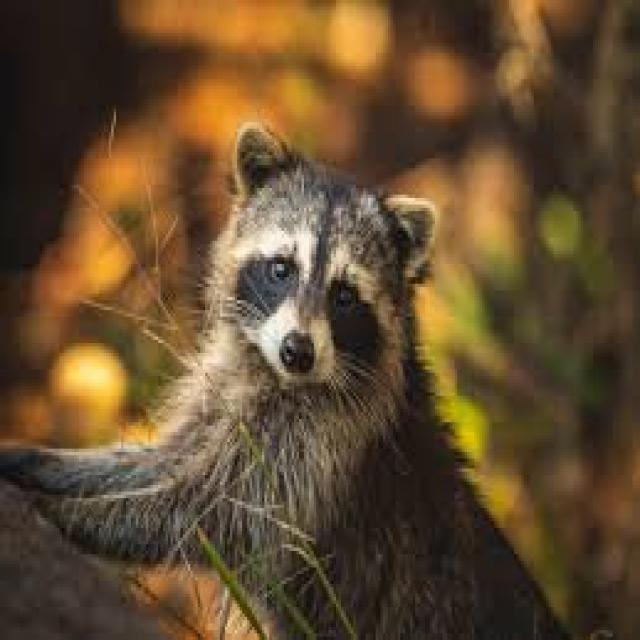Raccoon: (29, 112, 556, 640)
